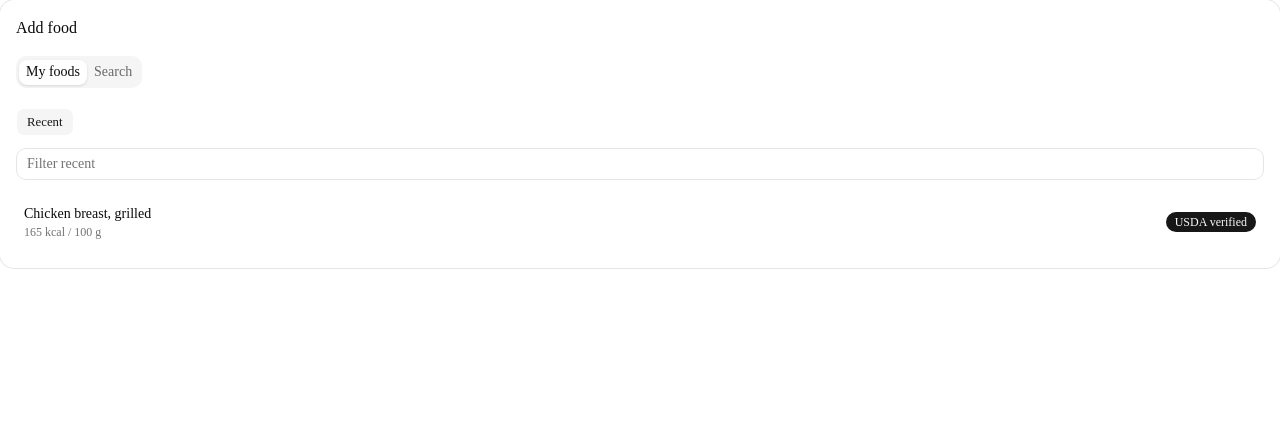
Scenario: AddFood — your usual portion (§12D) › offers the usual amount without applying it, and applies it on a tap
What coordinates should you click on to do the following:
click the button "Chicken breast, grilled 165 kcal / 100 g USDA verified"
I would click on:
 (88, 214)
Its box is [16,192,1264,252].
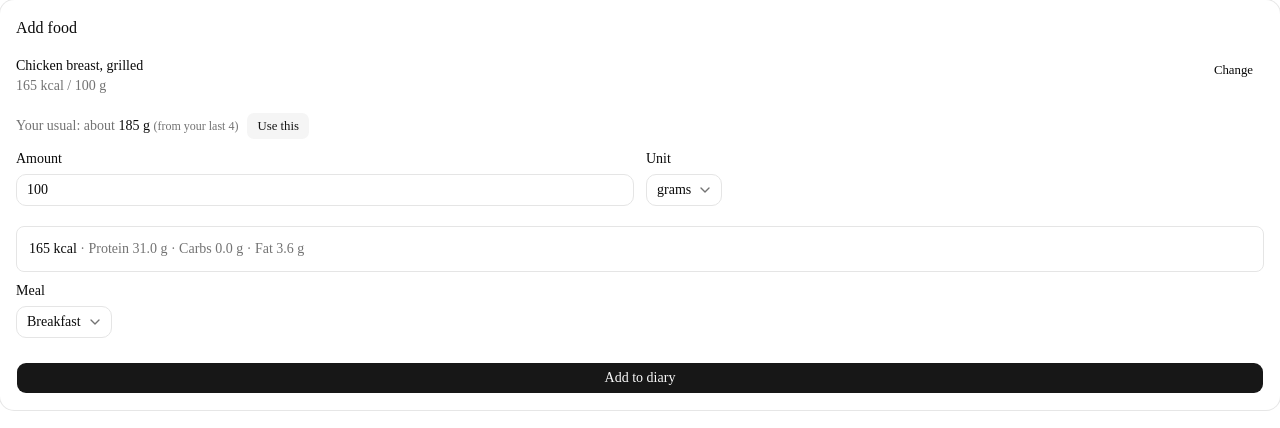
Result: the text "Your usual: about 185 g (from your last 4)" is shown at [16,116,238,136]
Result: the number field labelled "Amount" holds "100" at [16,174,634,206]
What coordinates should you click on to do the following:
click the button "Use this"
I would click on:
 (278, 126)
Its box is [246,112,310,140].
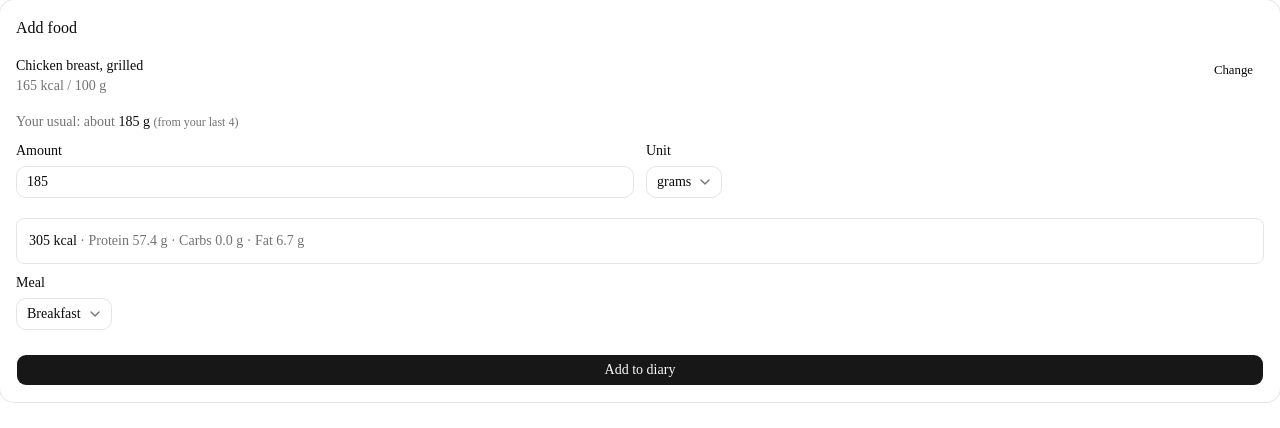
Result: the number field labelled "Amount" holds "185" at [16,166,634,198]
Result: the button "Use this" is gone
